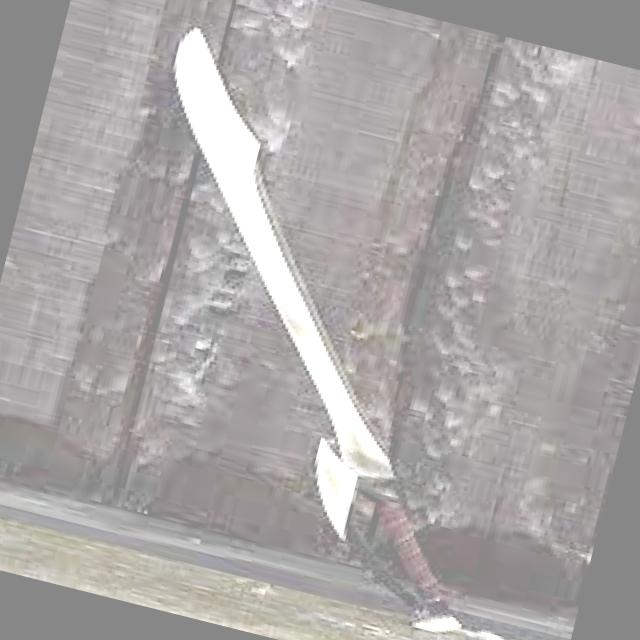long sword: (52, 17, 590, 631)
